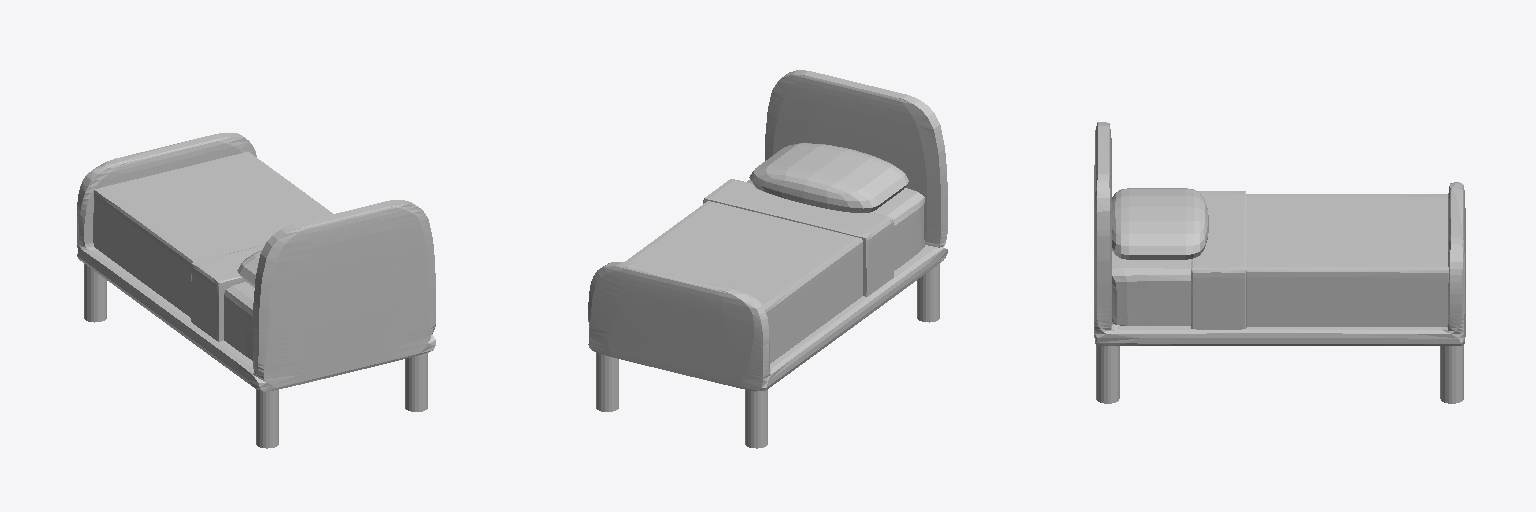
The model's file is Bed.obj.
3 views of the same model, side by side, from view 1: azimuth 30°, elevation 25°; view 2: azimuth 150°, elevation 25°; view 3: azimuth 270°, elevation 25° (orthographic).
Visible parts, largest first — view 1: polySurface7, pCube3, pCube2, pCube1, polySurface3, polySurface6, polySurface1; view 2: polySurface7, pCube3, polySurface4, pCube2, pCube1, polySurface1, polySurface2, polySurface3; view 3: pCube3, polySurface7, pCube2, polySurface4, pCube1, polySurface6, polySurface2.
Part boxes in pixels (left/top/right/bottom): polySurface7: left=77, top=133, right=435, bottom=391; pCube3: left=93, top=152, right=332, bottom=317; pCube2: left=191, top=245, right=264, bottom=341; pCube1: left=224, top=282, right=254, bottom=360; polySurface3: left=256, top=389, right=278, bottom=448; polySurface6: left=405, top=353, right=427, bottom=411; polySurface1: left=84, top=264, right=106, bottom=322; polySurface7: left=588, top=70, right=947, bottom=391; pCube3: left=625, top=201, right=862, bottom=363; polySurface4: left=749, top=143, right=908, bottom=212; pCube2: left=703, top=179, right=893, bottom=296; pCube1: left=747, top=180, right=924, bottom=270; polySurface1: left=745, top=390, right=767, bottom=448; polySurface2: left=596, top=353, right=618, bottom=411; polySurface3: left=917, top=264, right=939, bottom=322; pCube3: left=1246, top=194, right=1448, bottom=326; polySurface7: left=1094, top=122, right=1465, bottom=345; pCube2: left=1191, top=191, right=1246, bottom=329; polySurface4: left=1112, top=188, right=1208, bottom=259; pCube1: left=1112, top=251, right=1190, bottom=325; polySurface6: left=1096, top=345, right=1119, bottom=403; polySurface2: left=1440, top=345, right=1463, bottom=403.
Size of the model in its own units: 35.77 by 40.91 by 64.81.